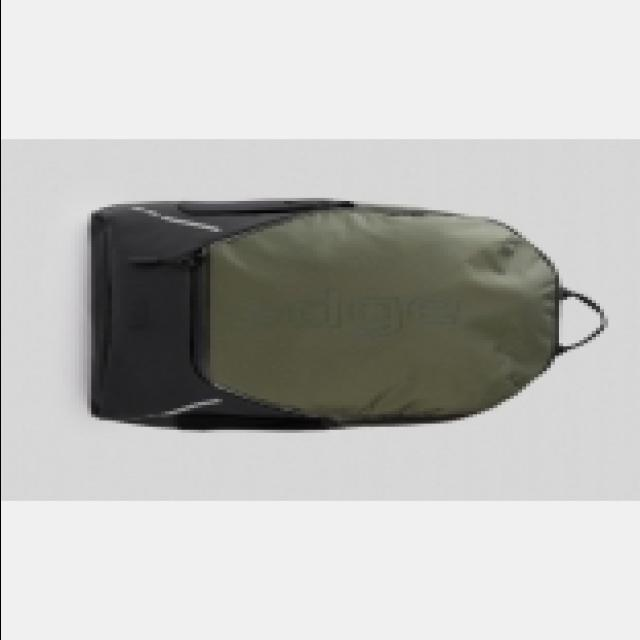backpack: (92, 199, 613, 431)
